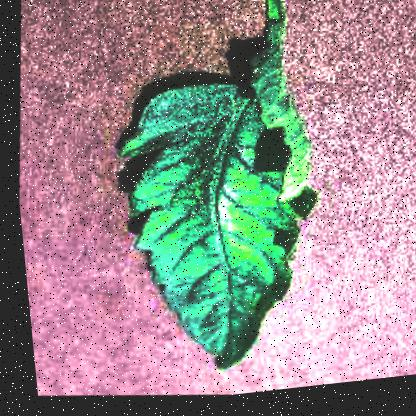Virus: (72, 0, 344, 396)
